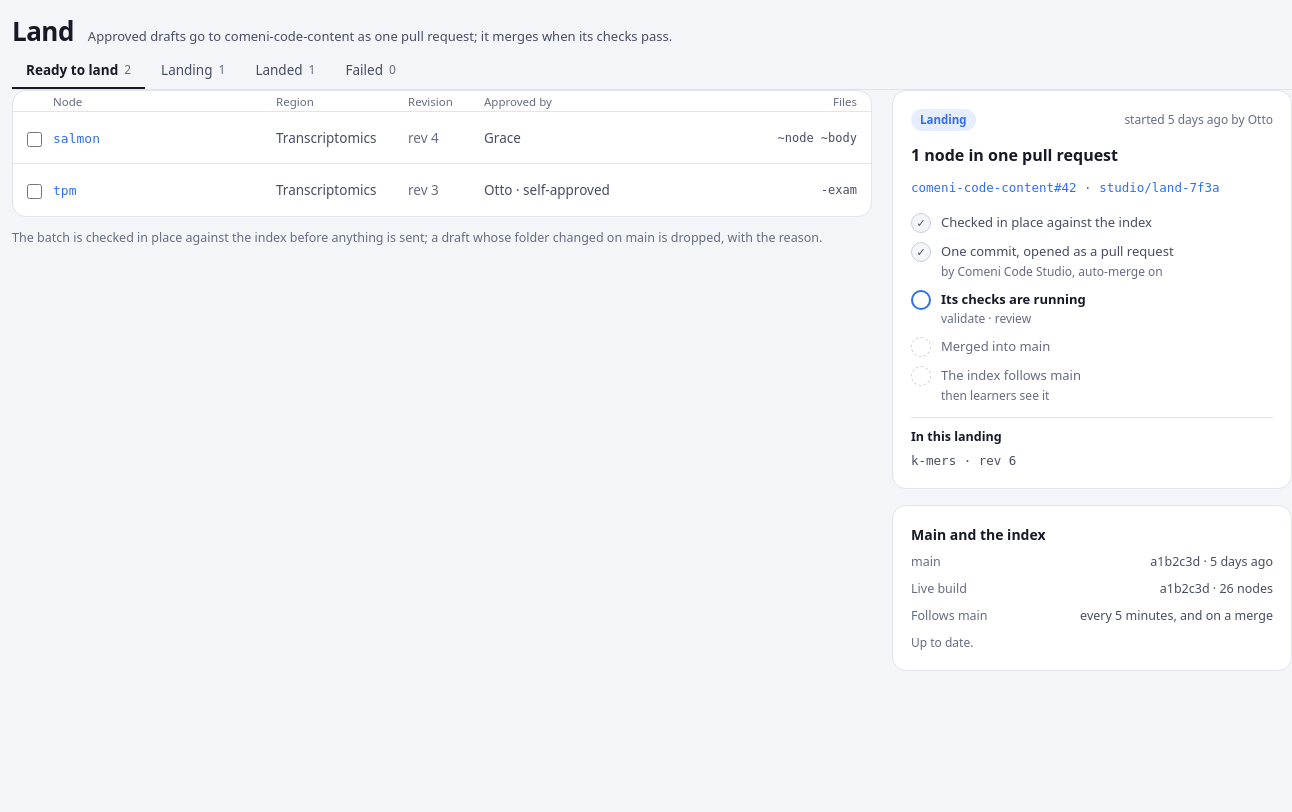
it: LandPage — keeping up (final review) › keeps watching a moving landing while another is shown (#319)
Check: the text "Its checks are running" is shown, box [941,290,1086,309]
Click the tab "Landed 1": (285, 70) [241,51,330,89]
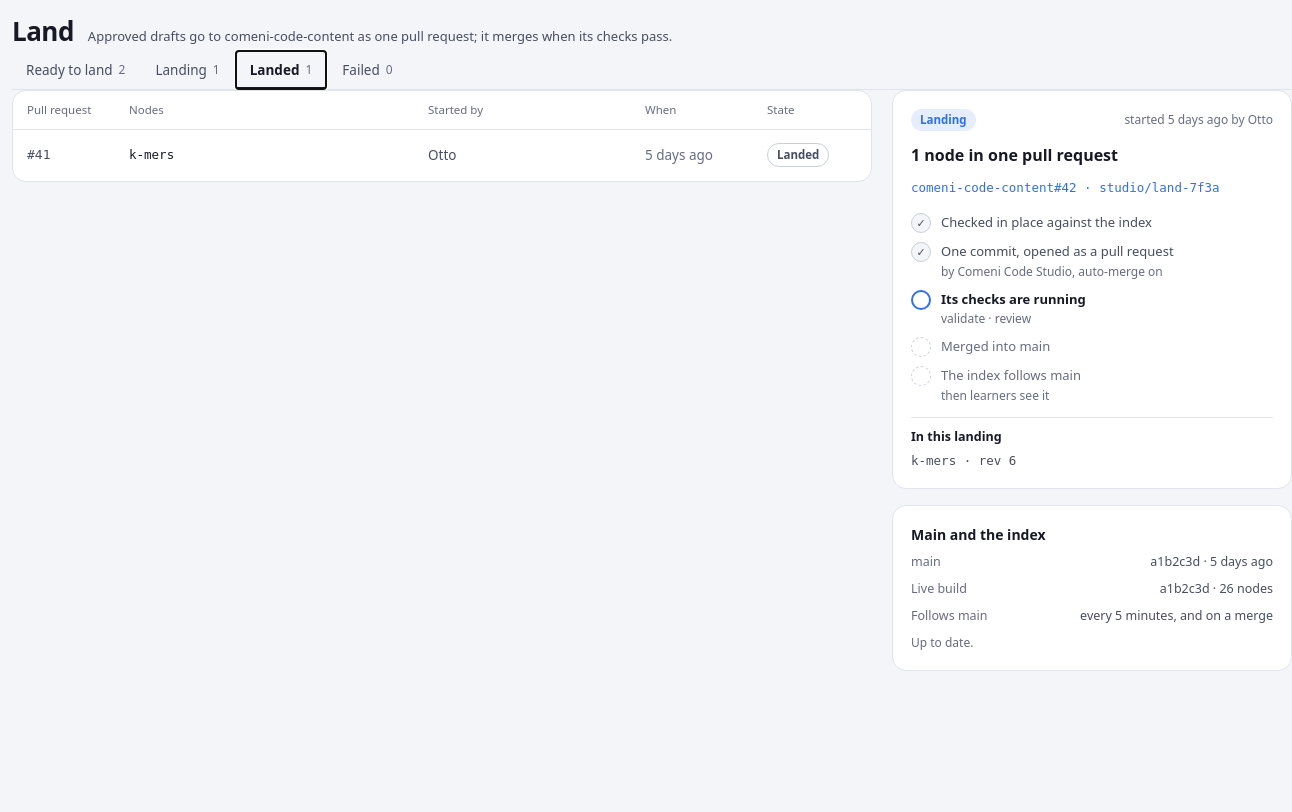
Click the button "#41 k-mers Otto 5 days ago Landed": (442, 154) [13,128,871,180]
Wait 15000 ms
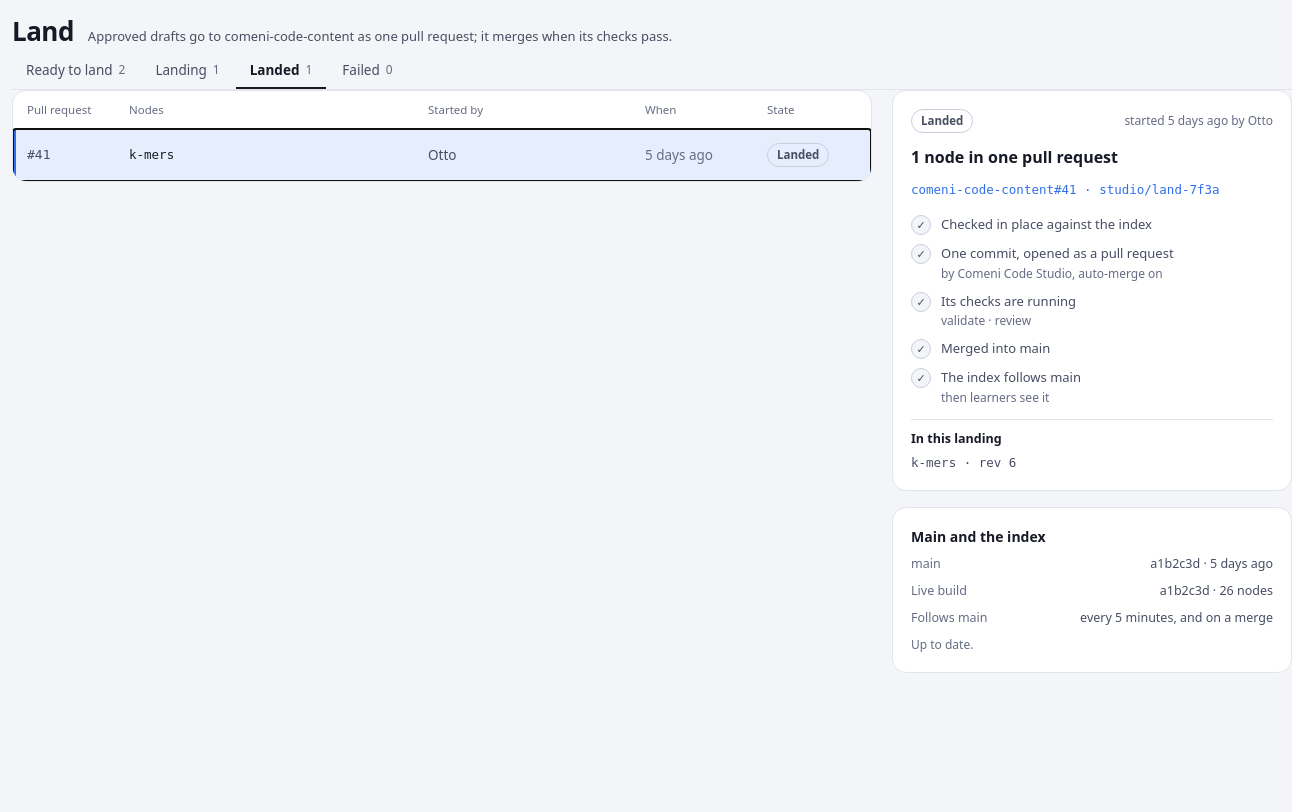
Check: the link "comeni-code-content#41 · studio/land-7f3a" is shown, box [911,180,1273,199]
